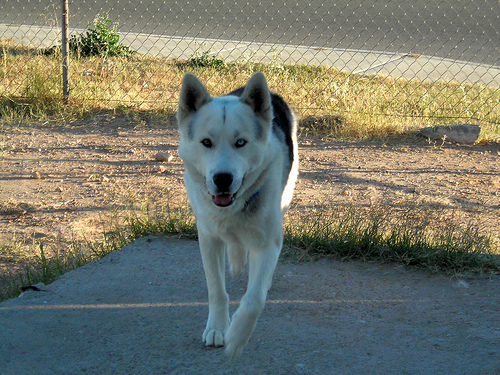dog: (177, 68, 302, 362)
